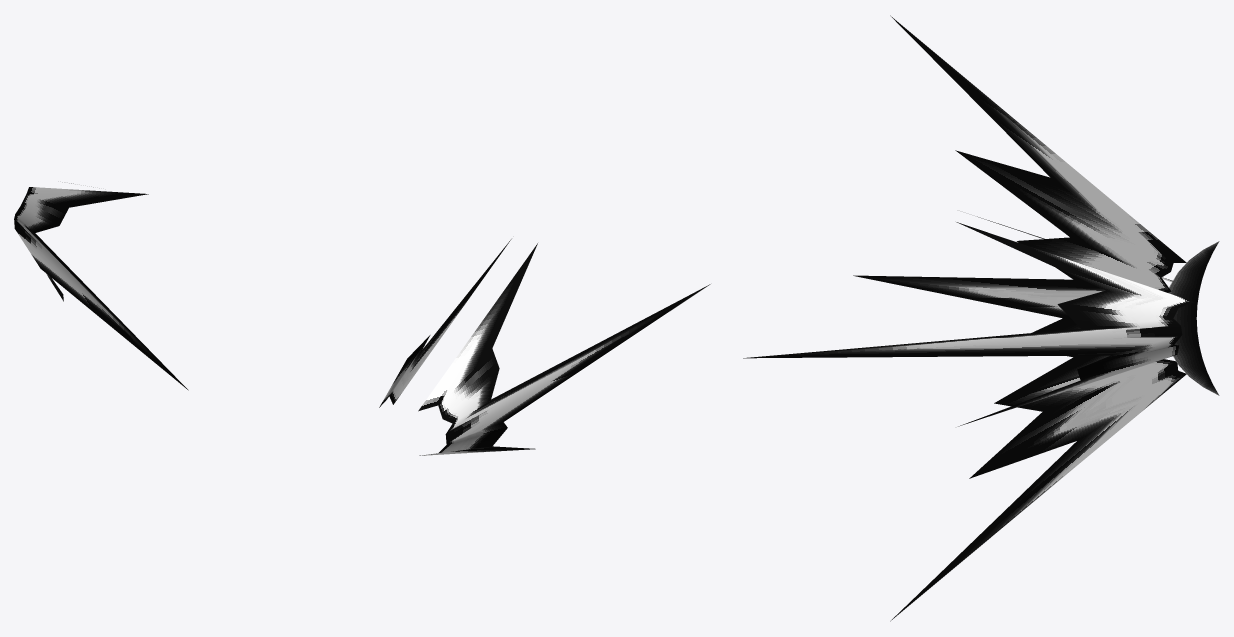
Rendered from hit-normal-shockwave.glb.
The picture shows the model from 3 angles, left to right: view 1: azimuth 30°, elevation 25°; view 2: azimuth 150°, elevation 25°; view 3: azimuth 270°, elevation 25°; orthographic projection.
Visible parts, largest first — view 1: polygon1; view 2: polygon1; view 3: polygon2, polygon1, polygon0.
Part boxes in pixels (x1,y1,x2,y2): polygon1: (14, 182, 188, 390); polygon1: (379, 239, 710, 455); polygon2: (853, 15, 1186, 621); polygon1: (743, 216, 1194, 426); polygon0: (1168, 241, 1219, 395).
Size of the model in its own units: 25.98 by 94.24 by 67.23.
3 materials, 3 textured.
